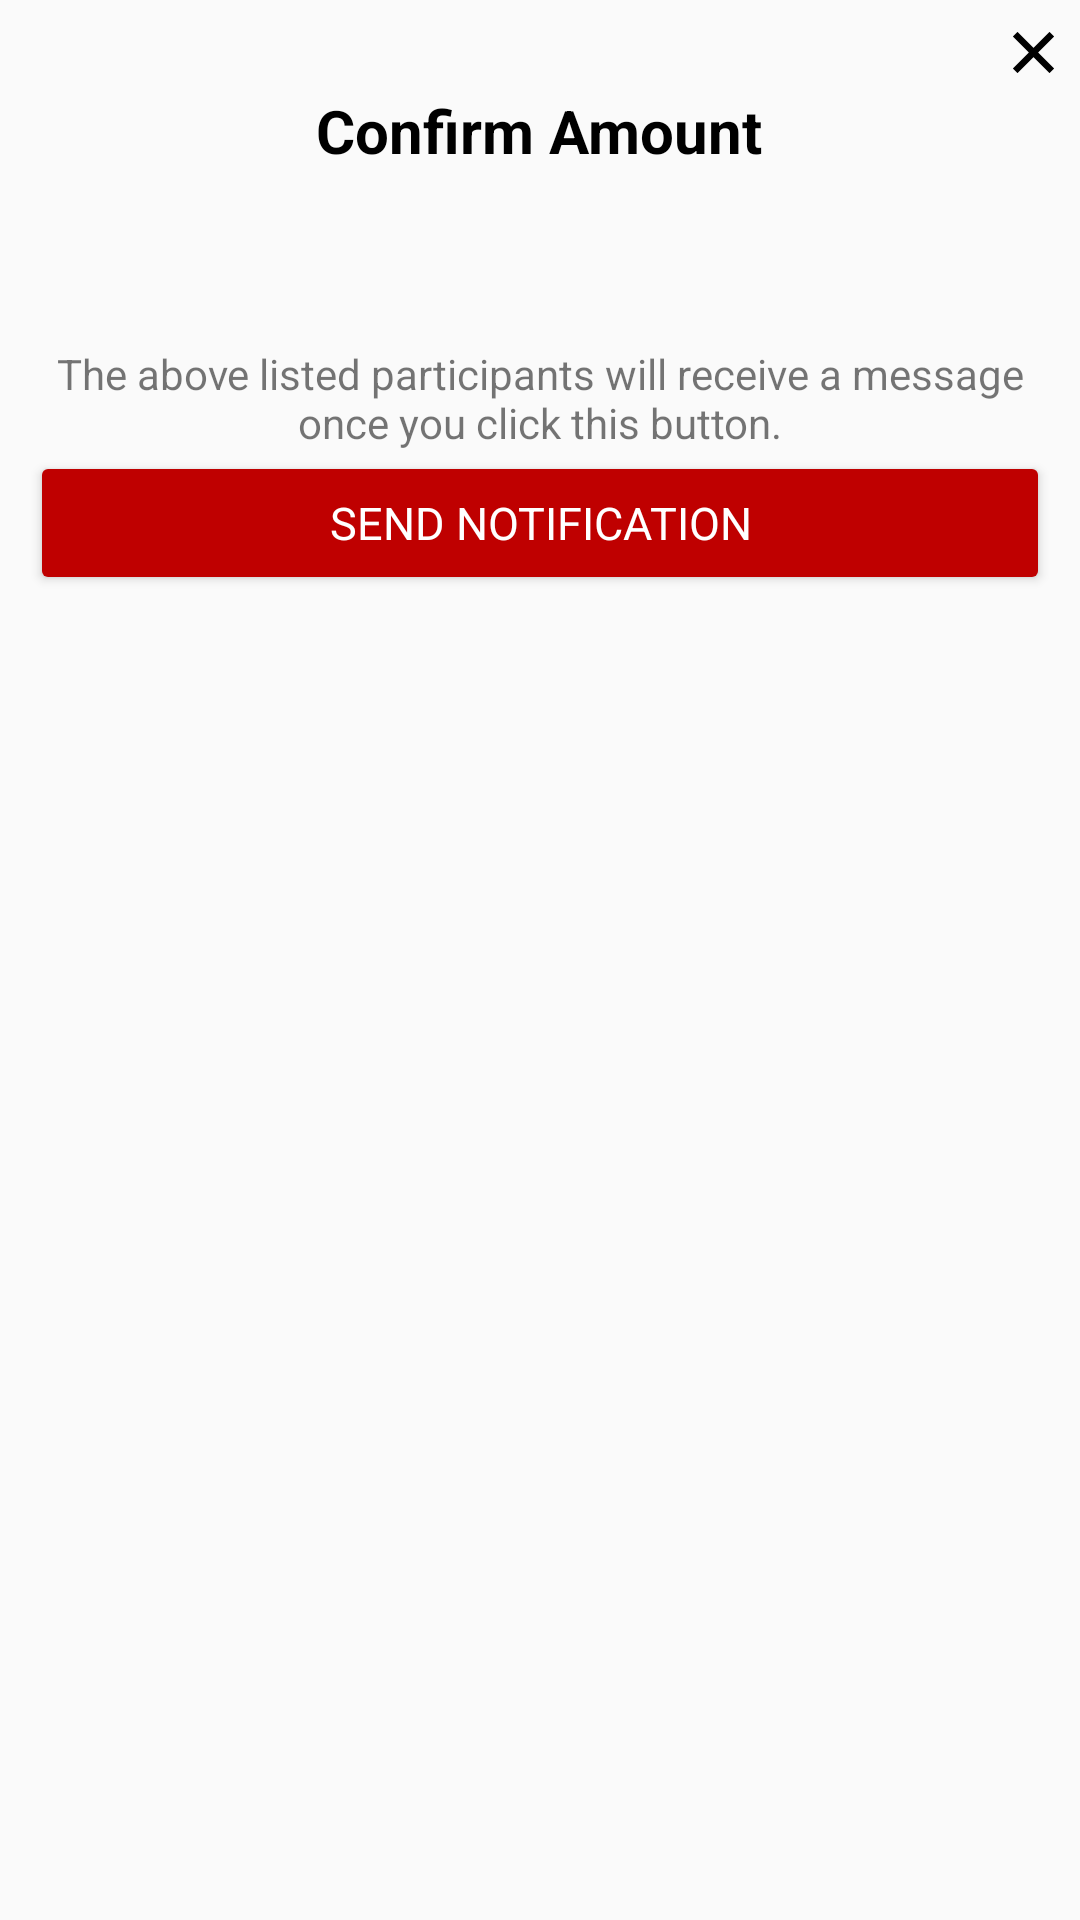

Where icons sit on this 1080 x 1920 app screen, as (x1, y1, x2, y2):
cross: (1013, 32, 1054, 73)
